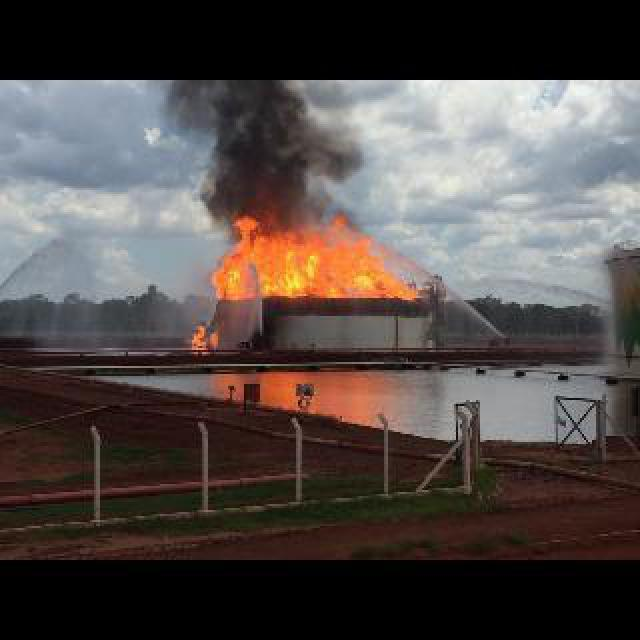Fire: (218, 220, 416, 298), (192, 328, 220, 350)
Smoke: (174, 86, 368, 232)
